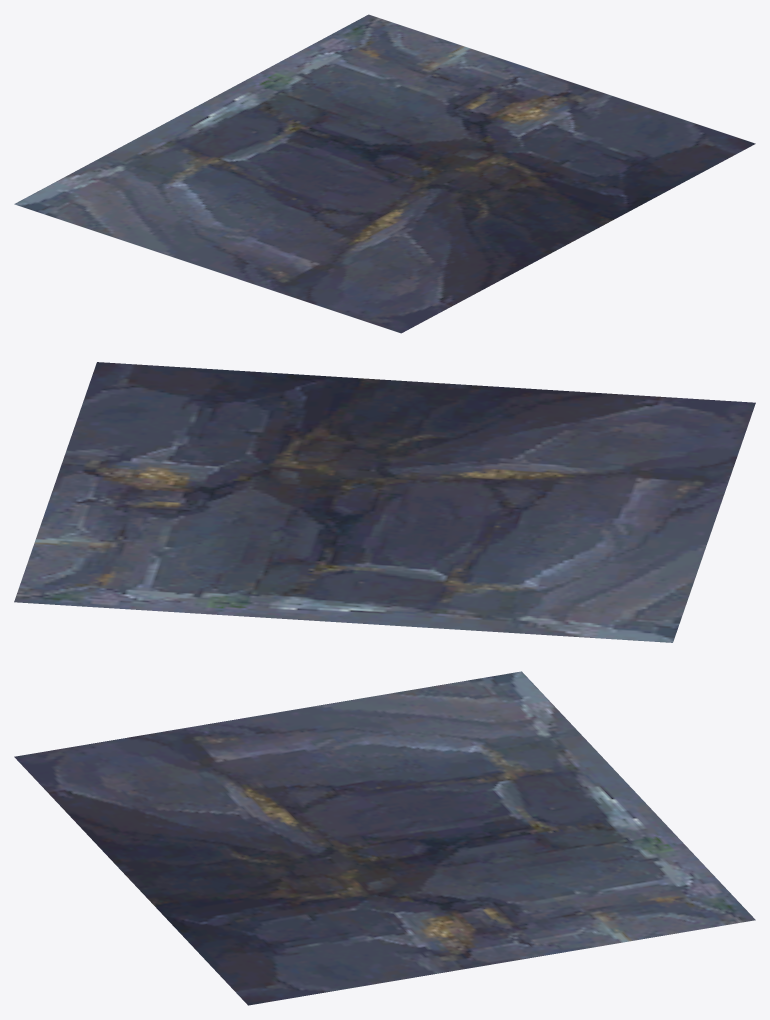
The model's file is s_battle_06_plane.FBX.
The picture shows the model from 3 angles, top to bottom: view 1: azimuth 30°, elevation 25°; view 2: azimuth 150°, elevation 25°; view 3: azimuth 270°, elevation 25°; orthographic projection. The views are drawn at different scales.
Parts seen in each view (by area): view 1: plane; view 2: plane; view 3: plane.
Part boxes in pixels (<box>): plane: <box>14,14,755,333</box>; plane: <box>14,362,755,642</box>; plane: <box>14,671,755,1005</box>.
Bounding box in the file's own units: 1235 × 0.000305 × 1159.
